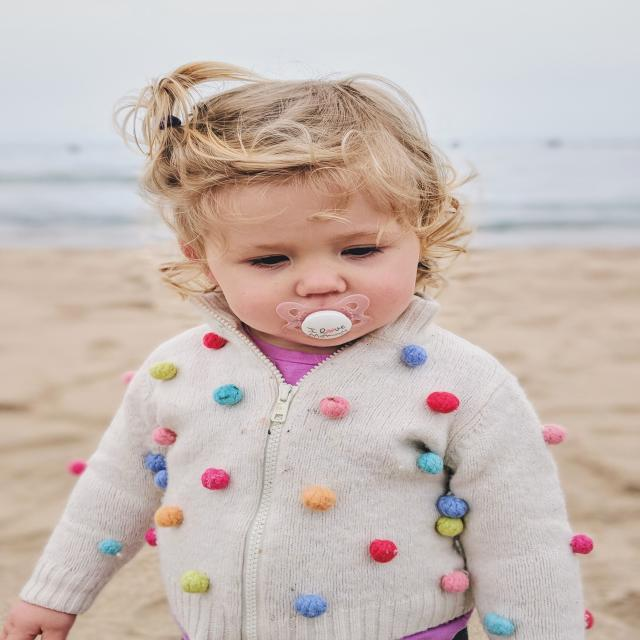non-dog: (0, 61, 594, 639)
